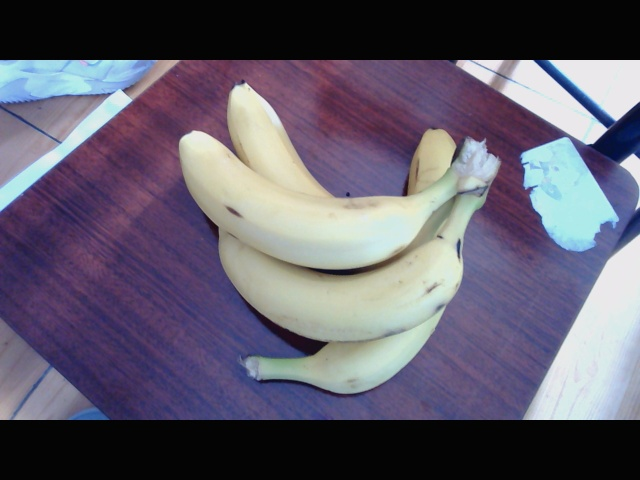banana: (176, 94, 476, 397)
